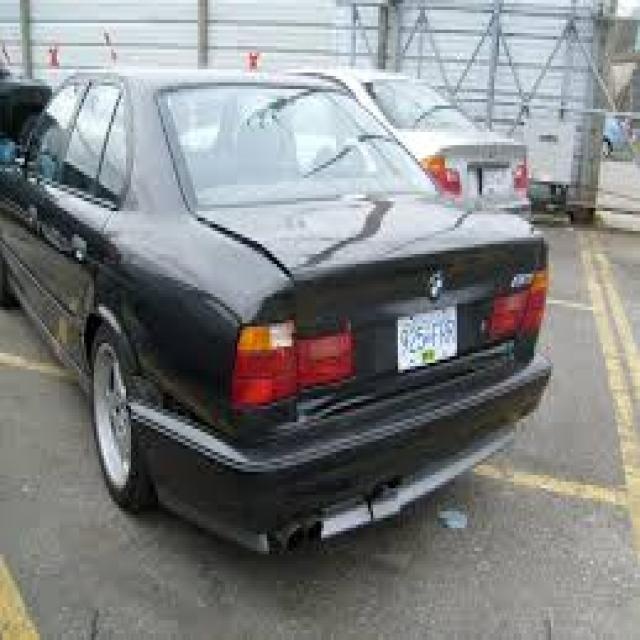minor: (212, 215, 327, 283)
